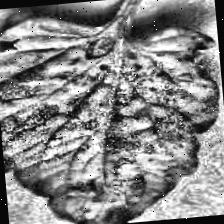disease: (0, 1, 224, 224)
